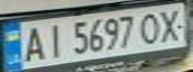5: (66, 18, 90, 55)
6: (87, 16, 109, 53)
7: (118, 12, 139, 47)
9: (103, 15, 124, 51)
A: (15, 24, 48, 63)
I: (39, 20, 69, 60)
O: (136, 9, 166, 45)
X: (154, 6, 190, 43)
